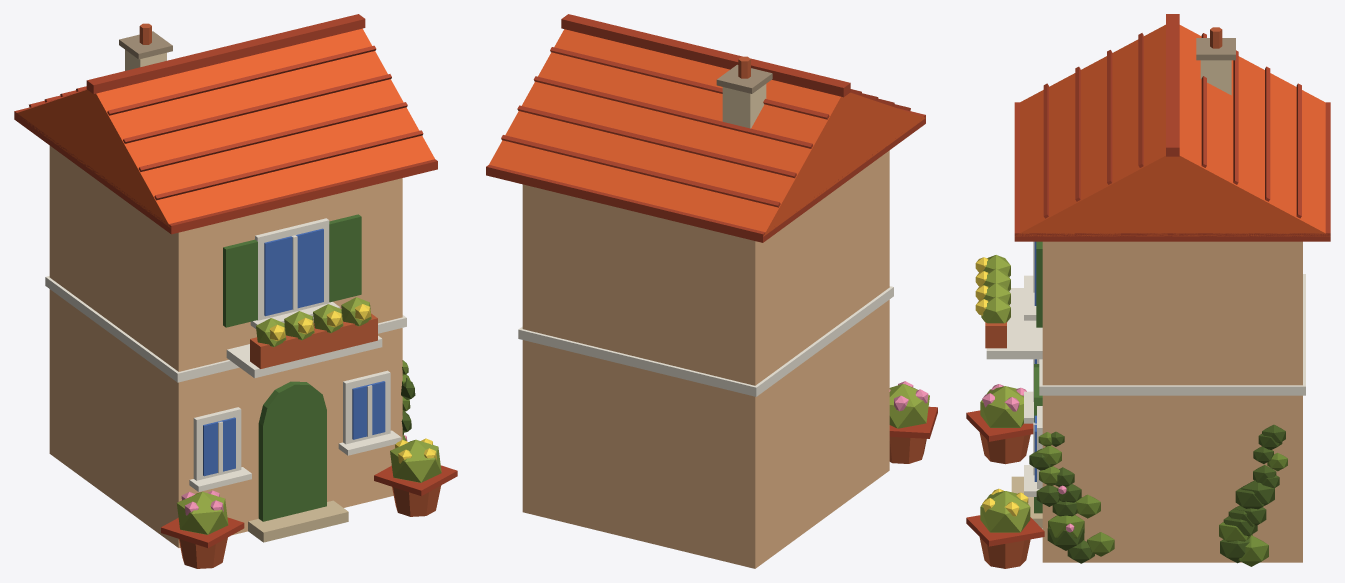
The model's file is townhouse_small.glb.
The picture shows the model from 3 angles, left to right: view 1: azimuth 30°, elevation 25°; view 2: azimuth 150°, elevation 25°; view 3: azimuth 270°, elevation 25°; orthographic projection. The views are drawn at different scales.
Parts seen in each view (by area): view 1: townhouse_small; view 2: townhouse_small; view 3: townhouse_small.
Boxes of the visible parts, left/top/right/bottom form: townhouse_small: left=14, top=14, right=457, bottom=568; townhouse_small: left=486, top=14, right=937, bottom=568; townhouse_small: left=966, top=14, right=1330, bottom=568.
Size of the model in its own units: 5.26 by 8.03 by 5.88.
